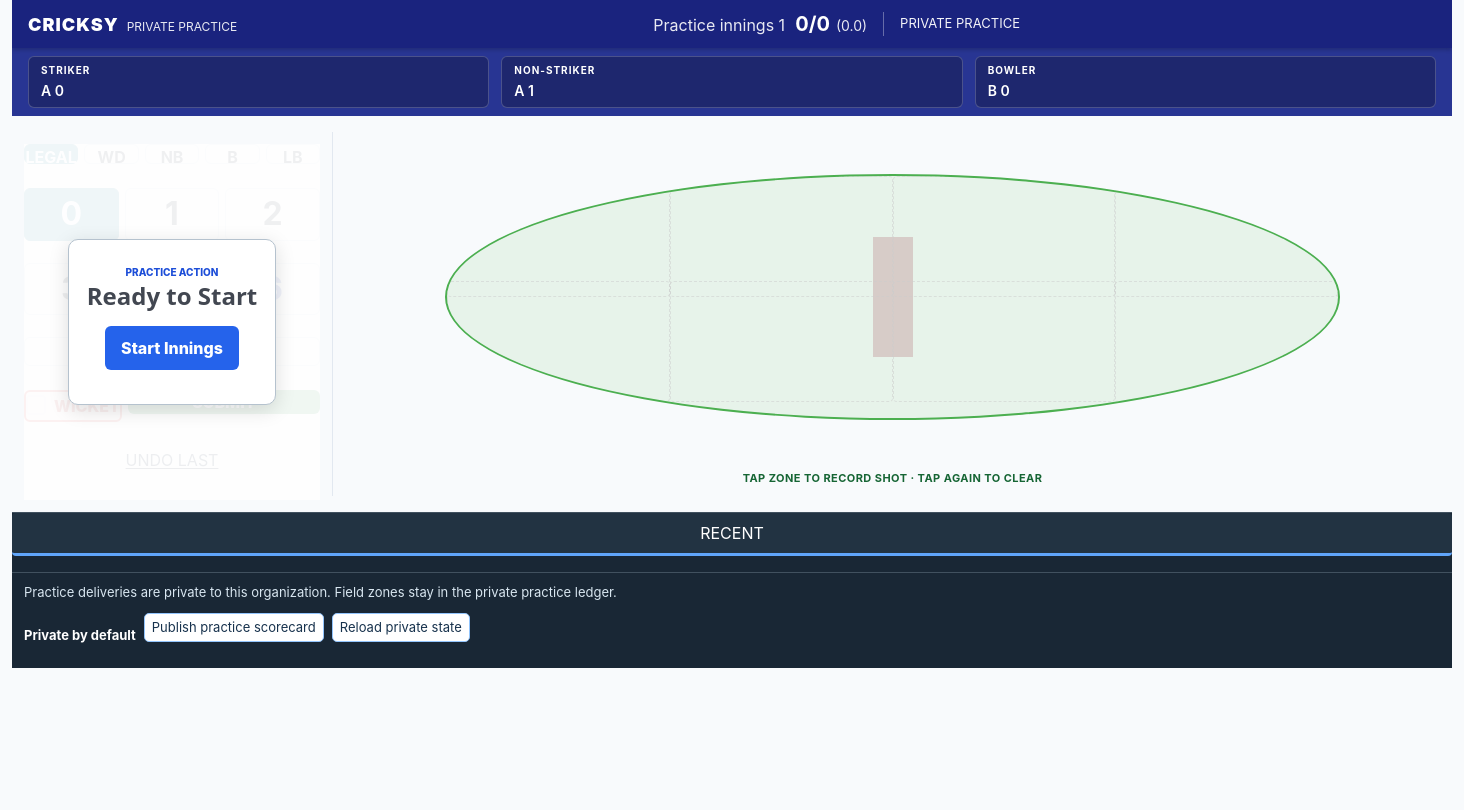
Test case: PracticeMatchView › recovers a persisted started practice by starting its first innings once
Click the button with class "btn-gate".
click(172, 348)  # box [105, 326, 239, 370]
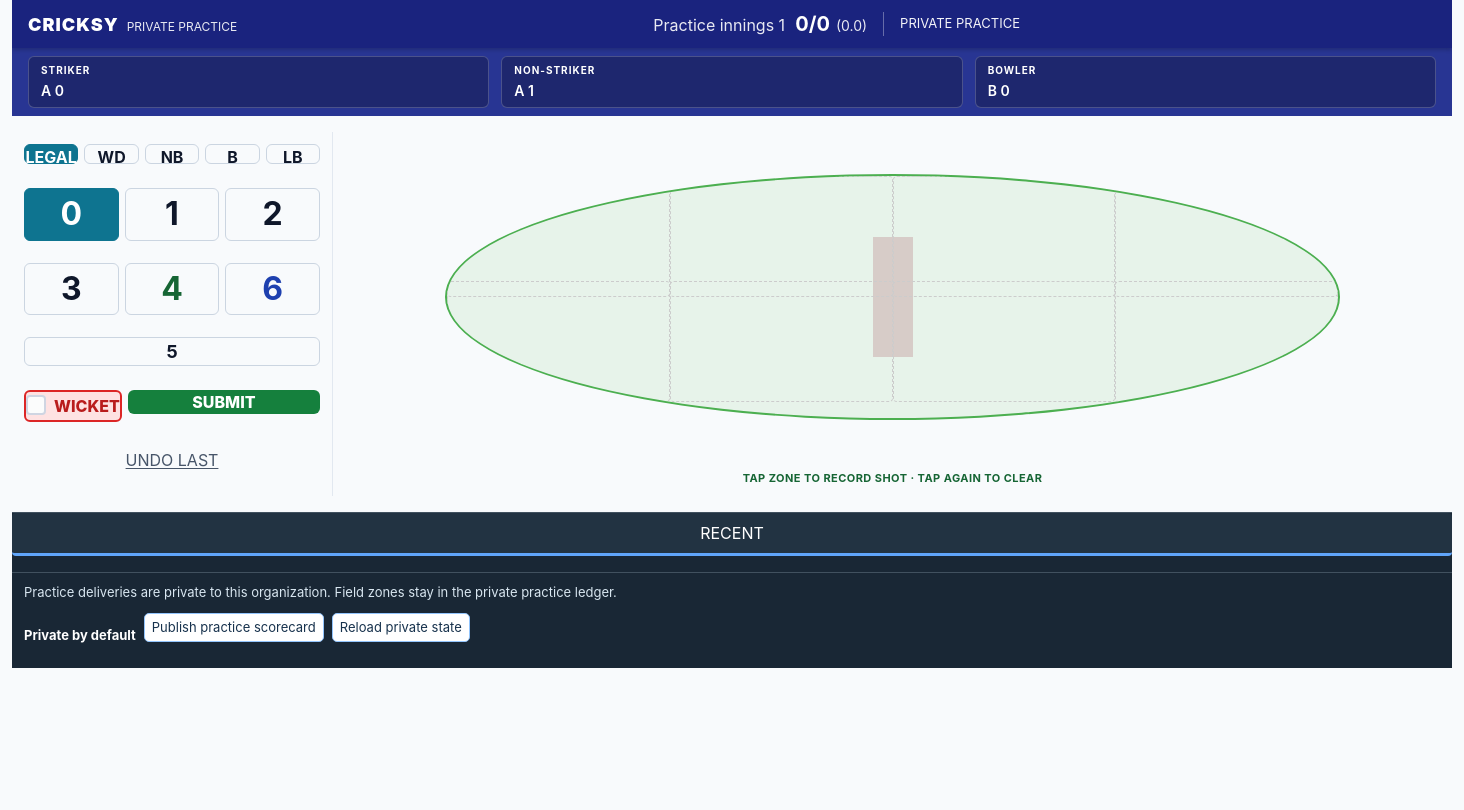
Now the button with test id "submit-delivery" is enabled, box [128, 390, 320, 414]
